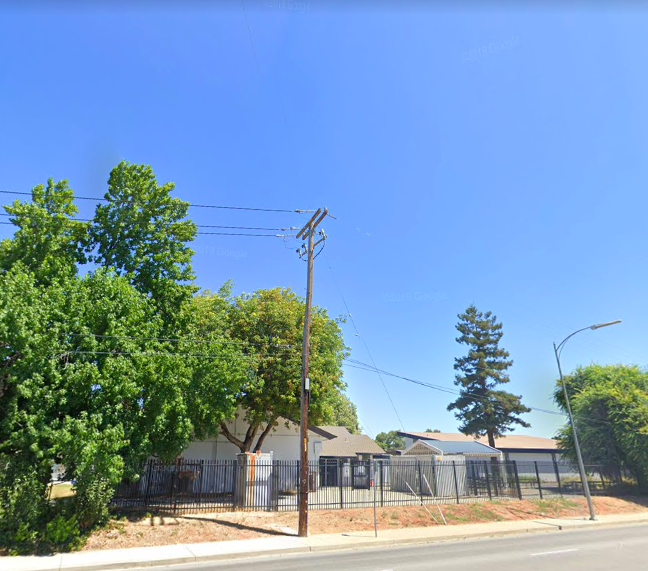utility_pole: (279, 199, 335, 269)
